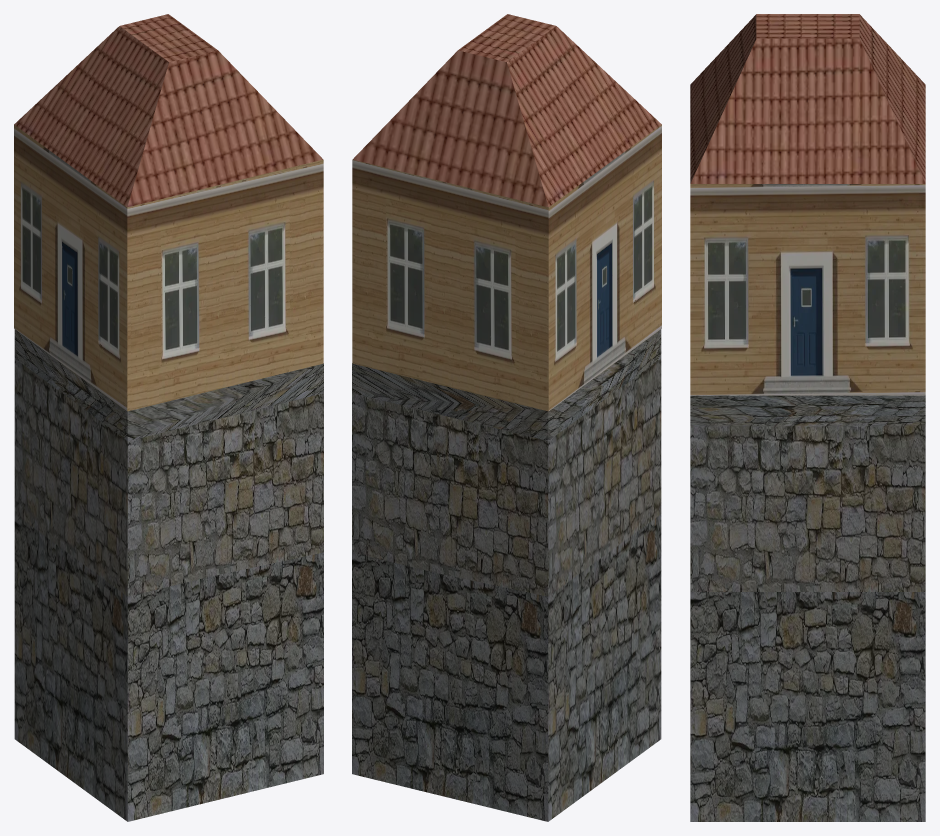
File: woodcutter.glb
3 renders of one model, left to right at view 1: azimuth 30°, elevation 25°; view 2: azimuth 150°, elevation 25°; view 3: azimuth 270°, elevation 25°, orthographic. The views are drawn at different scales.
Visible parts, largest first — view 1: Cube.001, Cube; view 2: Cube.001, Cube; view 3: Cube.001, Cube.
Boxes of the visible parts, x1,y1,x2,y2 form: Cube.001: [14, 329, 323, 821]; Cube: [14, 14, 323, 411]; Cube.001: [352, 329, 661, 821]; Cube: [352, 14, 661, 411]; Cube.001: [690, 395, 925, 821]; Cube: [690, 14, 925, 395].
Size of the model in its own units: 1 by 3.5 by 1.
4 materials, 4 textured.
